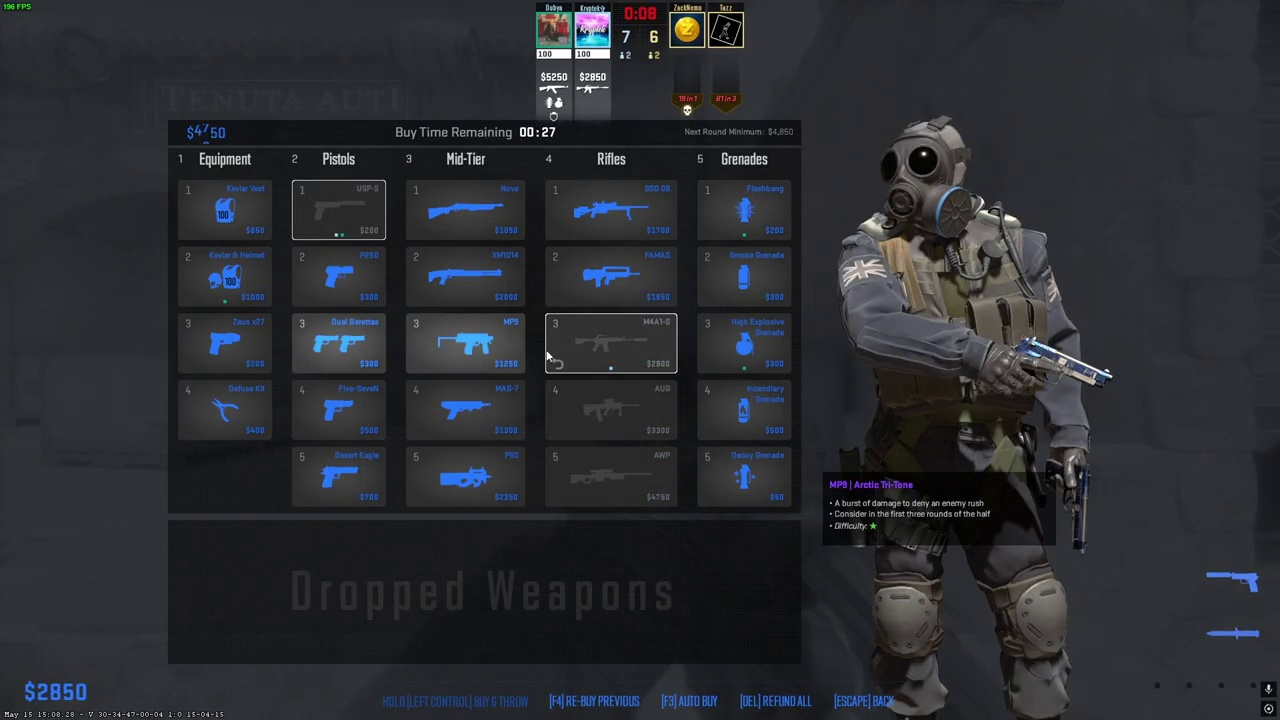CT: (854, 122, 1078, 720)
